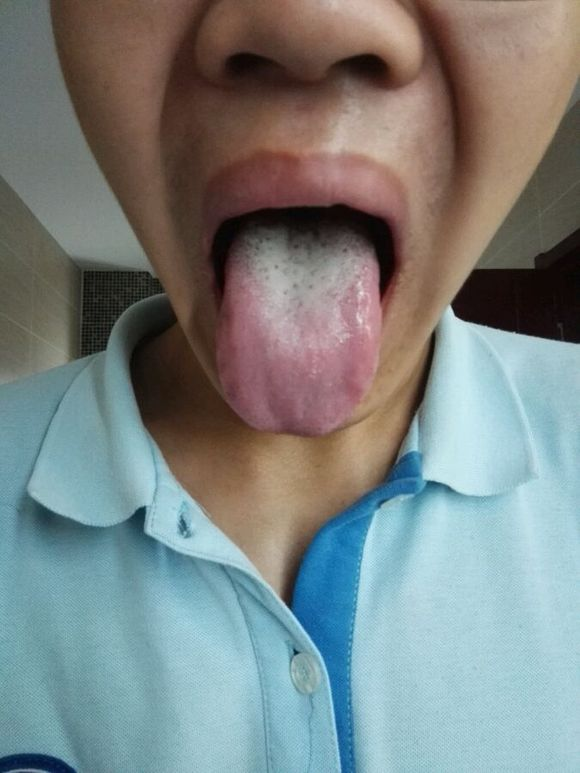baitaishe: (214, 216, 381, 435)
chihenshe: (215, 297, 240, 402)
hongdianshe: (255, 228, 348, 301)
hongshe: (214, 216, 381, 435)
